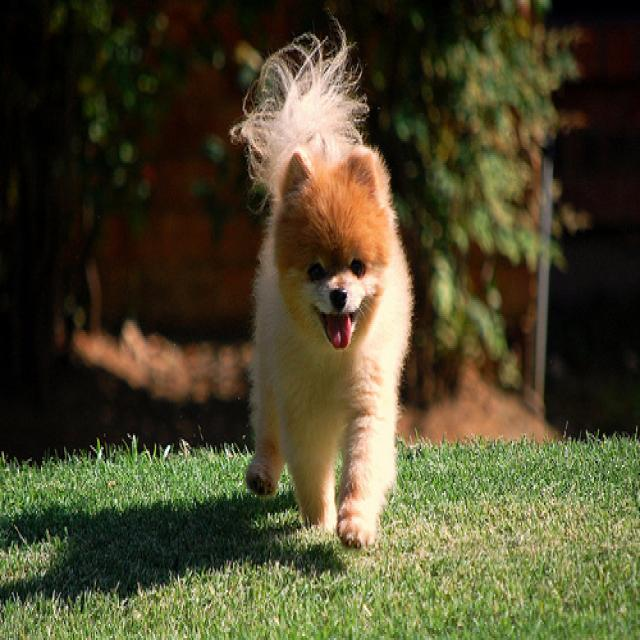dog-pomeranian: (225, 10, 425, 564)
